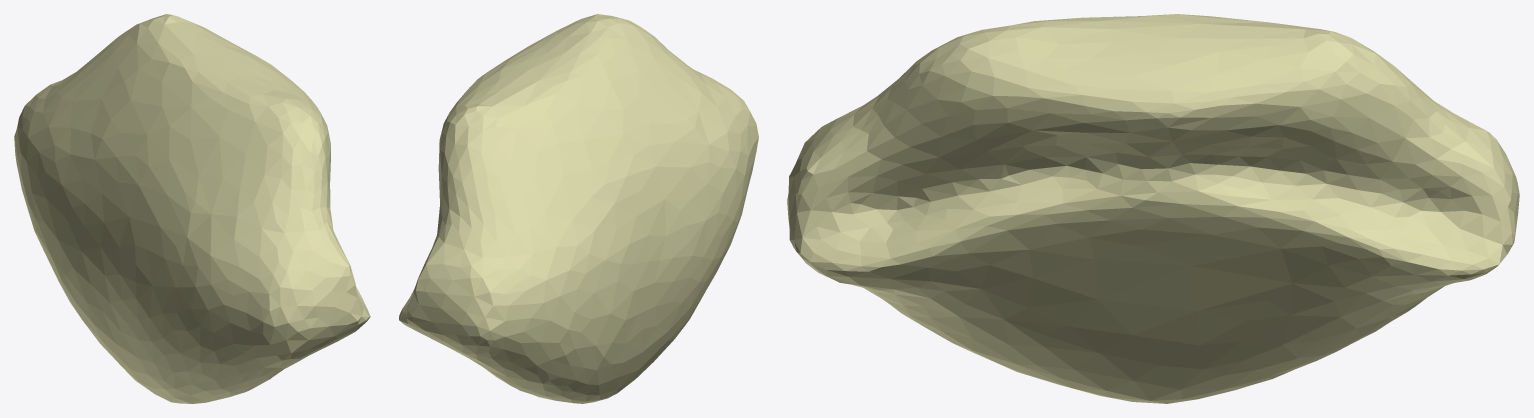
The picture shows the model from 3 angles, left to right: view 1: azimuth 30°, elevation 25°; view 2: azimuth 150°, elevation 25°; view 3: azimuth 270°, elevation 25°; orthographic projection. The views are drawn at different scales.
Parts seen in each view (by area): view 1: 976.obj; view 2: 976.obj; view 3: 976.obj.
Boxes of the visible parts, box(x1,y1,x2,y2) form: 976.obj: box(14, 14, 370, 403); 976.obj: box(399, 14, 758, 403); 976.obj: box(787, 14, 1519, 403).
Size of the model in its own units: 909 by 1491 by 2383.
